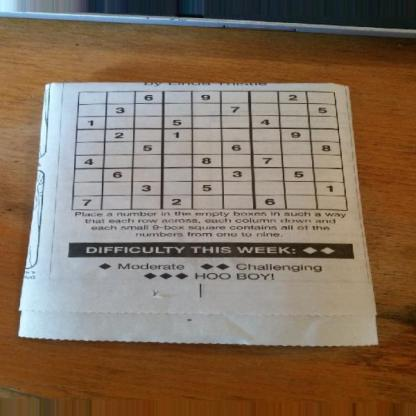sudoku: (70, 88, 350, 214)
